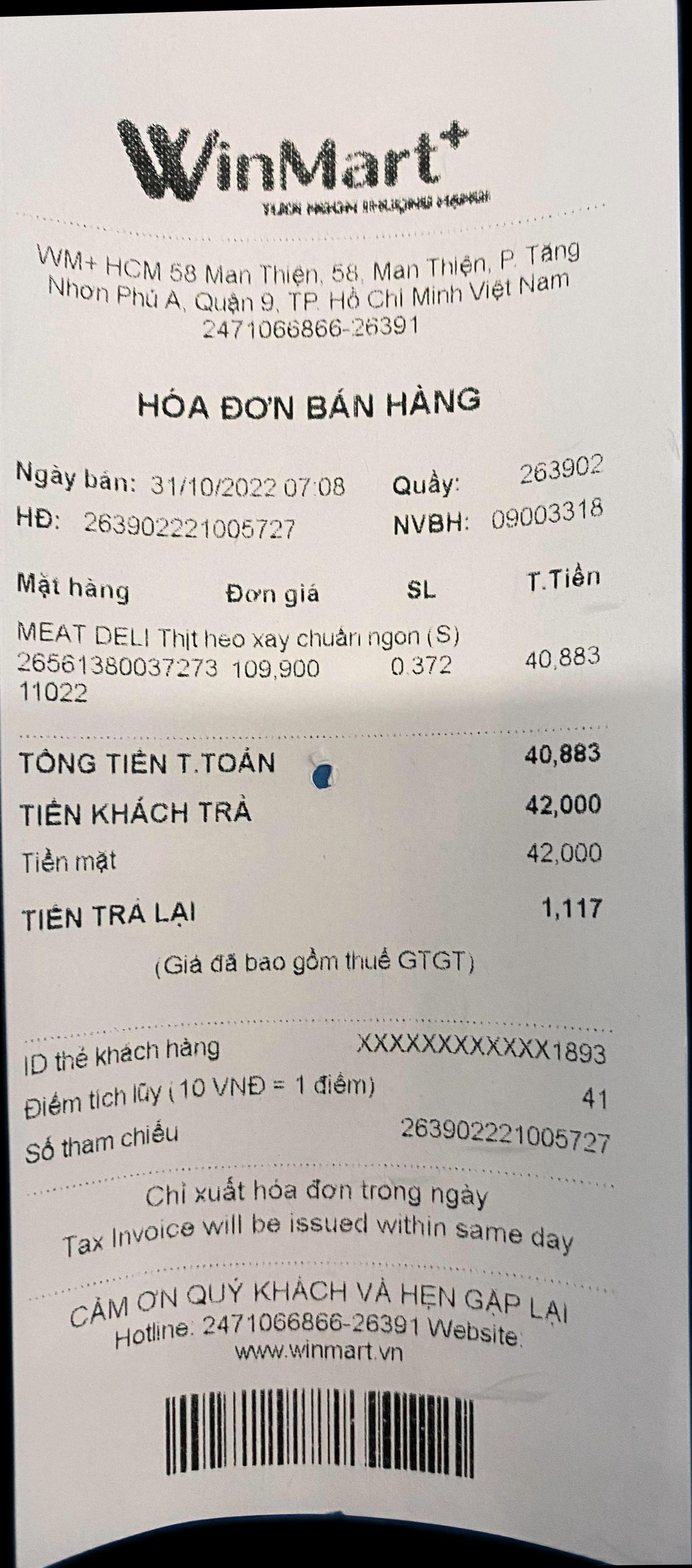Date: (146, 469, 286, 505)
Store_Name: (92, 77, 540, 222)
Total_Amount: (0, 729, 649, 784)
